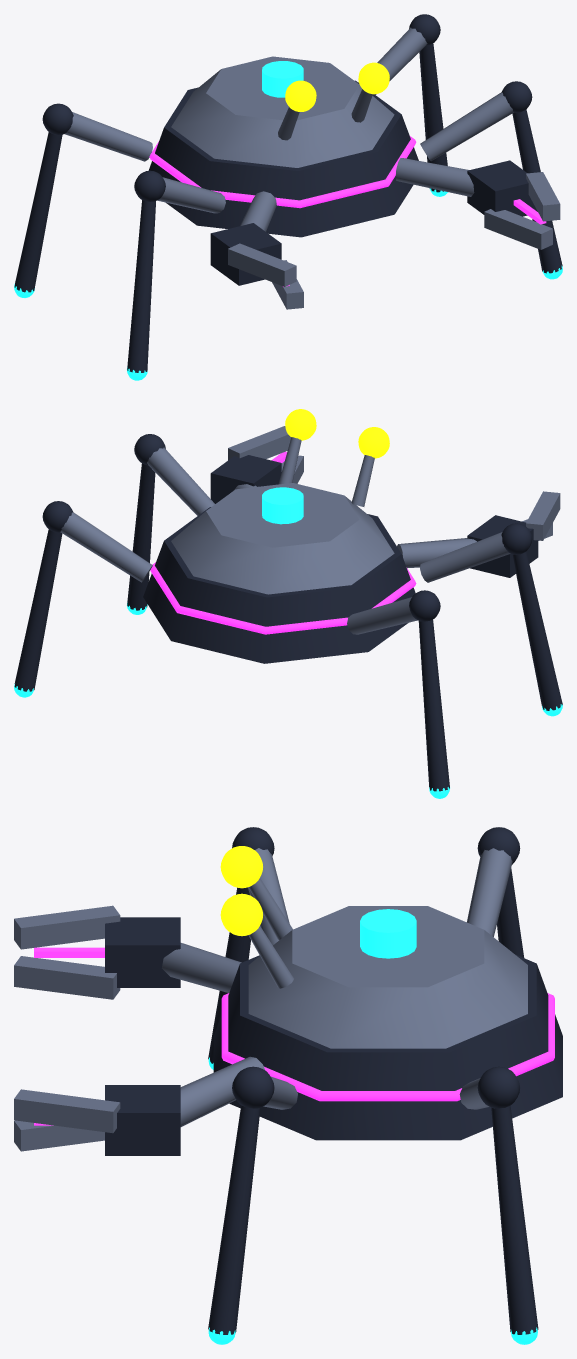
Rendered from ennemi-crabe.glb.
3 views of the same model, one above another, from view 1: azimuth 30°, elevation 25°; view 2: azimuth 150°, elevation 25°; view 3: azimuth 270°, elevation 25° (orthographic). The views are drawn at different scales.
Visible parts, largest first — view 1: carapace_haut, carapace, tibia_2, tibia_3, pince_base_1, pince_base_0, cuisse_0, bande_neon, bras_pince_1, cuisse_3, tibia_1, pince_haut_0 (+14 smaller); view 2: carapace, carapace_haut, tibia_3, tibia_1, tibia_2, cuisse_1, bande_neon, pince_base_1, tibia_0, cuisse_2, cuisse_0, pince_base_0 (+13 smaller); view 3: carapace_haut, carapace, tibia_0, tibia_1, pince_base_1, pince_base_0, bande_neon, pince_haut_1, pince_bas_0, pince_haut_0, capteur_dorsal, cuisse_3 (+16 smaller).
Part boxes in pixels (bbox=[...]): carapace_haut: bbox=[171, 56, 394, 167]; carapace: bbox=[148, 80, 418, 237]; tibia_2: bbox=[127, 200, 155, 372]; tibia_3: bbox=[14, 132, 62, 292]; pince_base_1: bbox=[467, 160, 537, 216]; pince_base_0: bbox=[210, 223, 281, 285]; cuisse_0: bbox=[420, 92, 513, 161]; bande_neon: bbox=[149, 136, 416, 208]; bras_pince_1: bbox=[395, 158, 474, 196]; cuisse_3: bbox=[64, 112, 152, 161]; tibia_1: bbox=[419, 43, 447, 192]; pince_haut_0: bbox=[228, 243, 296, 286]; carapace: bbox=[143, 507, 415, 663]; carapace_haut: bbox=[171, 483, 394, 594]; tibia_3: bbox=[418, 620, 449, 791]; tibia_1: bbox=[14, 529, 62, 691]; tibia_2: bbox=[512, 551, 562, 710]; cuisse_1: bbox=[60, 512, 152, 582]; bande_neon: bbox=[150, 562, 416, 634]; pince_base_1: bbox=[210, 455, 281, 503]; tibia_0: bbox=[127, 463, 155, 610]; cuisse_2: bbox=[420, 532, 510, 582]; cuisse_0: bbox=[147, 447, 214, 515]; pince_base_0: bbox=[467, 515, 538, 577]; carapace_haut: bbox=[248, 906, 527, 1048]; carapace: bbox=[213, 954, 562, 1140]; tibia_0: bbox=[208, 1105, 260, 1334]; tibia_1: bbox=[491, 1105, 538, 1334]; pince_base_1: bbox=[105, 1085, 180, 1155]; pince_base_0: bbox=[105, 917, 180, 987]; bande_neon: bbox=[221, 993, 554, 1101]; pince_haut_1: bbox=[14, 1089, 120, 1133]; pince_bas_0: bbox=[14, 956, 120, 999]; pince_haut_0: bbox=[14, 905, 120, 949]; capteur_dorsal: bbox=[360, 909, 416, 958]; cuisse_3: bbox=[467, 848, 512, 936].
Size of the model in its own units: 1.42 by 0.785 by 1.16.
